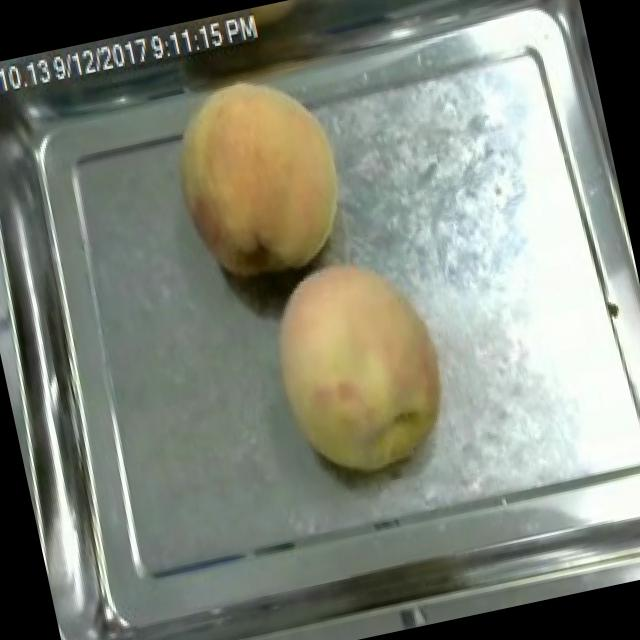Fruit: (248, 237, 470, 493), (154, 59, 368, 296)
